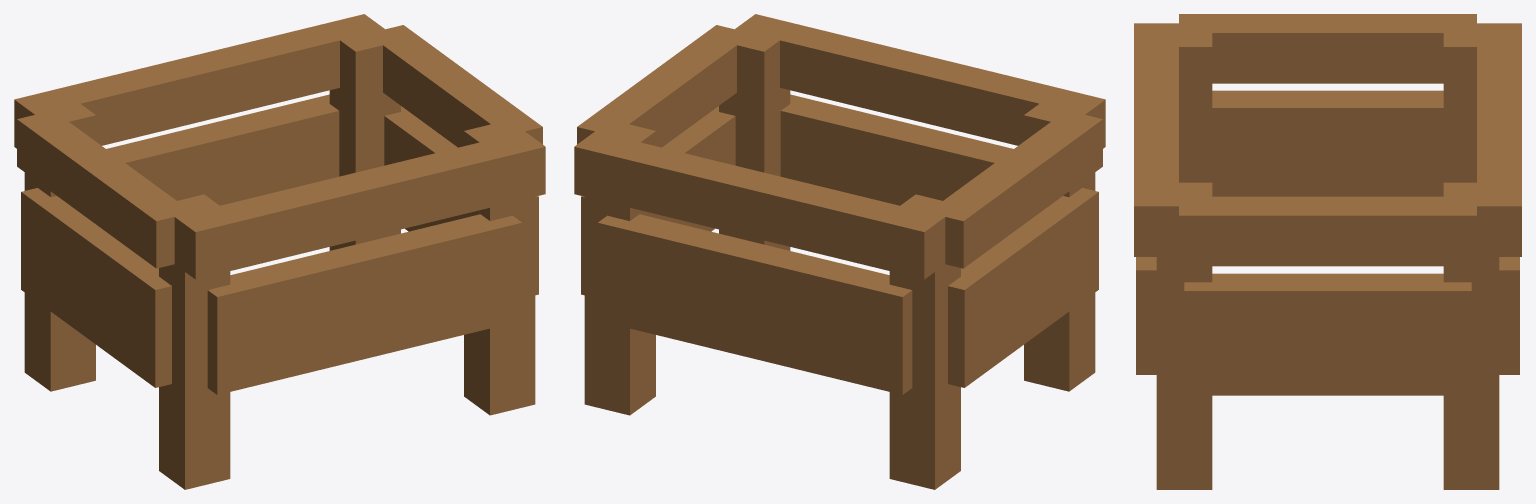
The model's file is HomebaseWoodCrateSmall_LOD00.gltf.
3 views of the same model, side by side, from view 1: azimuth 30°, elevation 25°; view 2: azimuth 150°, elevation 25°; view 3: azimuth 270°, elevation 25° (orthographic). The views are drawn at different scales.
Visible parts, largest first — view 1: HomebaseWoodCrateSmall_node; view 2: HomebaseWoodCrateSmall_node; view 3: HomebaseWoodCrateSmall_node.
Boxes of the visible parts, bbox=[...] form: HomebaseWoodCrateSmall_node: bbox=[14, 14, 545, 489]; HomebaseWoodCrateSmall_node: bbox=[574, 14, 1105, 489]; HomebaseWoodCrateSmall_node: bbox=[1134, 14, 1521, 489].
Size of the model in its own units: 0.64 by 0.42 by 0.52.
